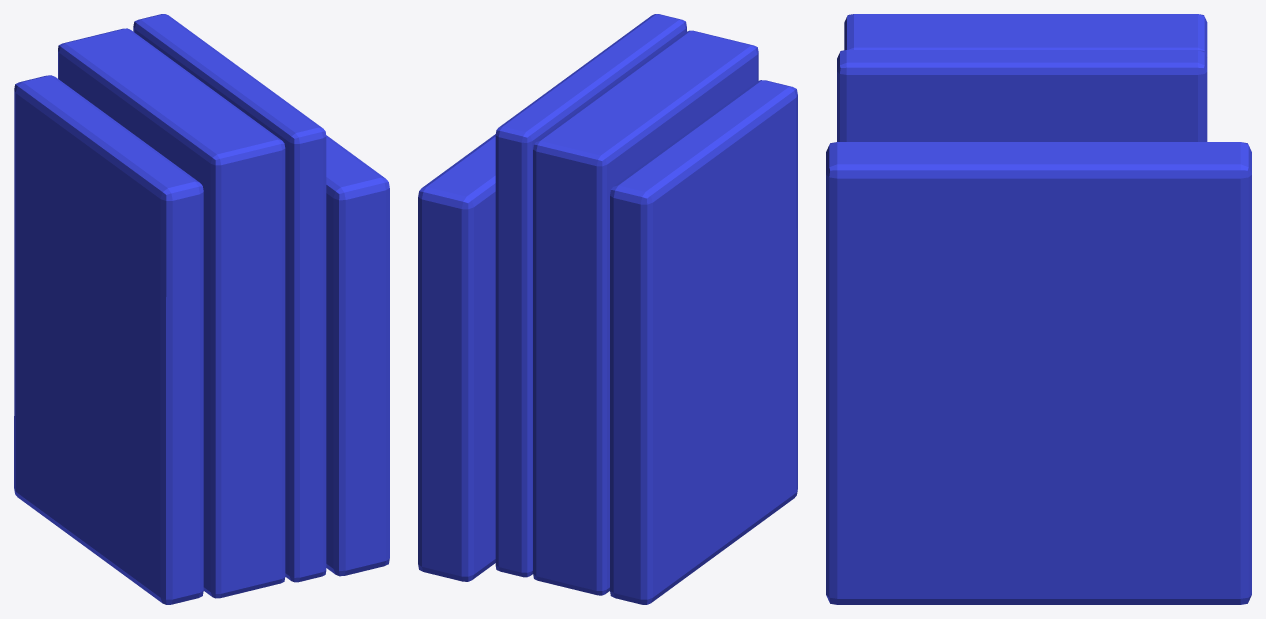
File: House_Books_01.FBX
3 views of the same model, side by side, from view 1: azimuth 30°, elevation 25°; view 2: azimuth 150°, elevation 25°; view 3: azimuth 270°, elevation 25° (orthographic). The views are drawn at different scales.
Visible parts, largest first — view 1: House_Books_01; view 2: House_Books_01; view 3: House_Books_01.
Part boxes in pixels (<box>): House_Books_01: <box>14,14,389,604</box>; House_Books_01: <box>418,14,797,604</box>; House_Books_01: <box>826,14,1251,604</box>.
Size of the model in its own units: 15.18 by 30.33 by 22.95.
